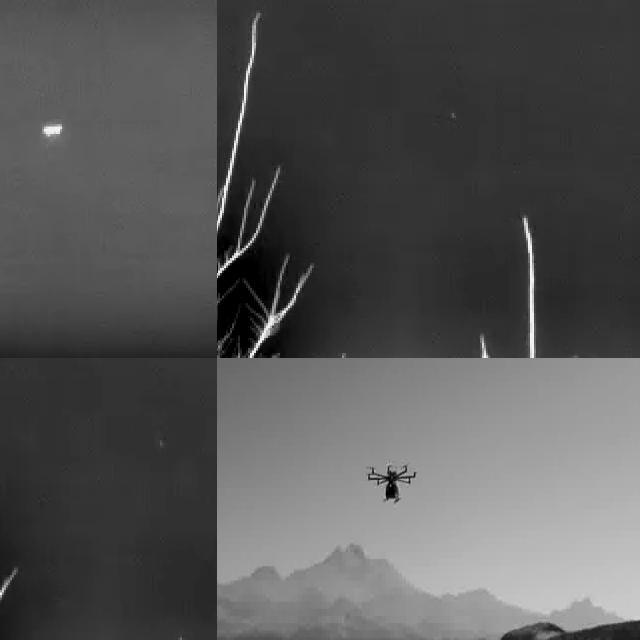0: (152, 434, 176, 464), (444, 103, 466, 133)
1: (20, 113, 88, 155)
drone: (366, 456, 418, 506)
